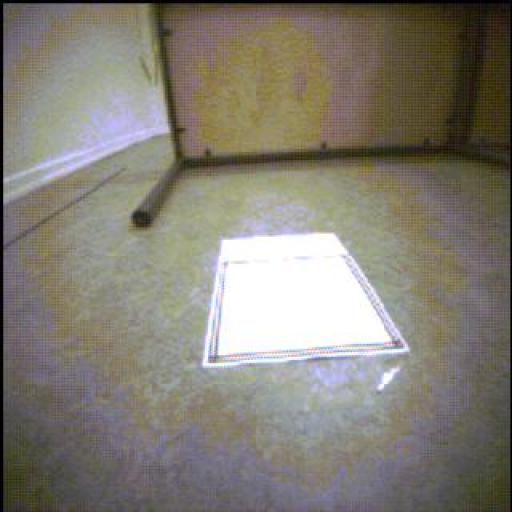Pad: (204, 235, 409, 368)
